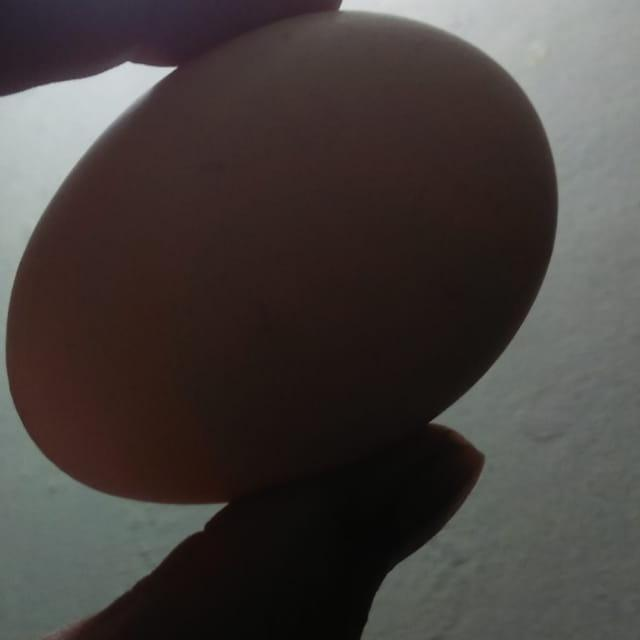egg: (1, 4, 561, 507)
